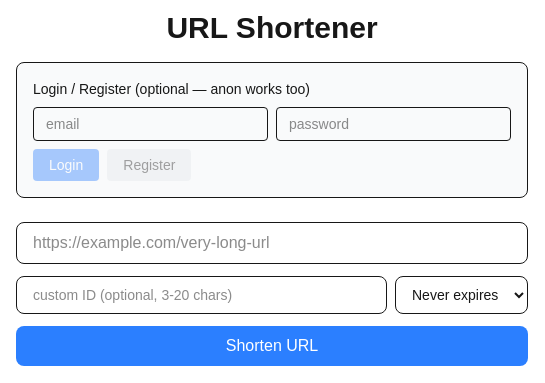
Test case: Auth form — flicker + usability fix › buttons enable when both email and password are filled
Type "a@b.com" into the field with placeholder "email" at (150, 124), box [33,107,268,141]
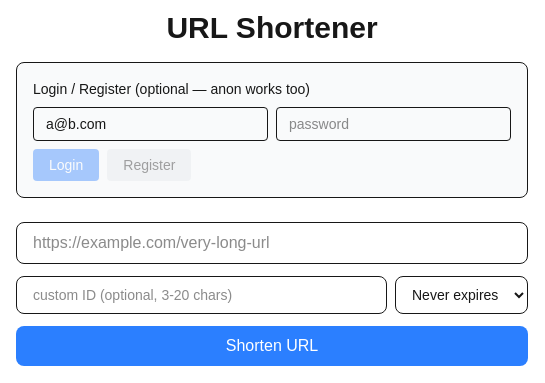
Type "secret123" into the password field with placeholder "password" at (394, 124), box [276,107,511,141]
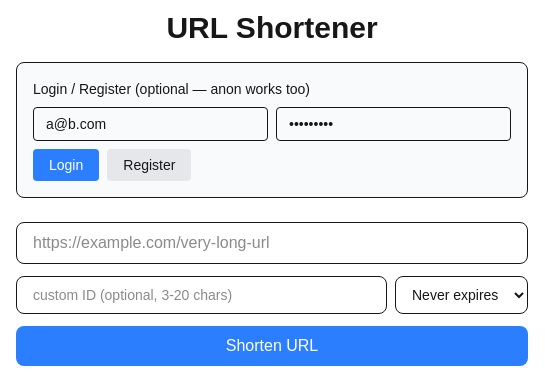
expect the button "Login" is enabled: met, box [33,149,99,181]
expect the button "Register" is enabled: met, box [107,149,191,181]
